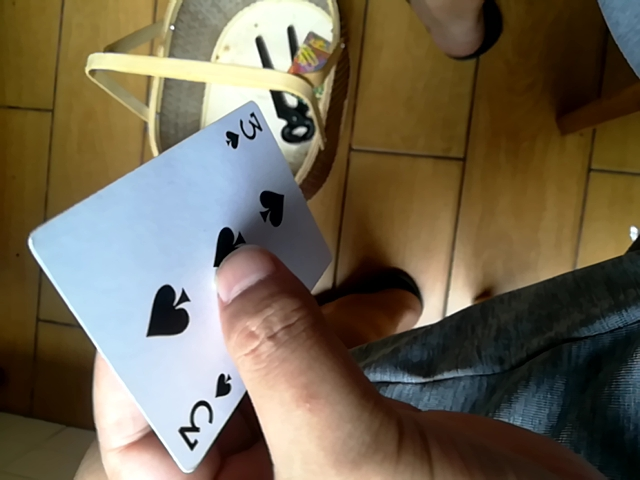ht 3: (35, 73, 305, 476)
